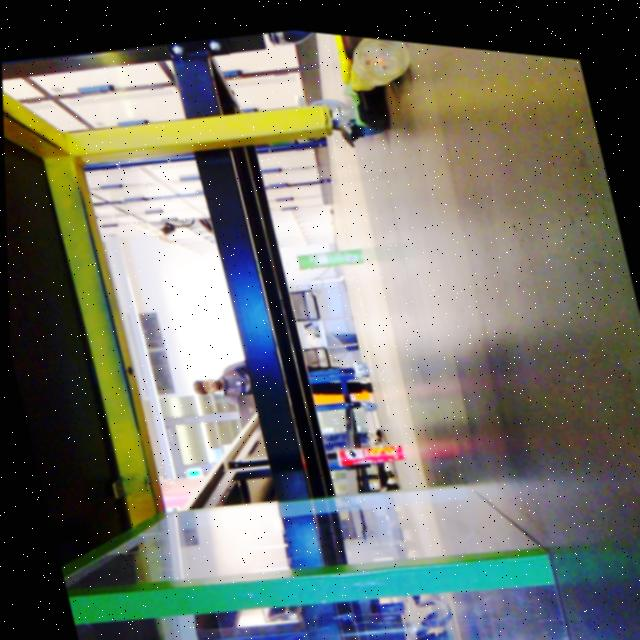greenpringles: (288, 225, 374, 273)
redpringles: (320, 416, 417, 469)
